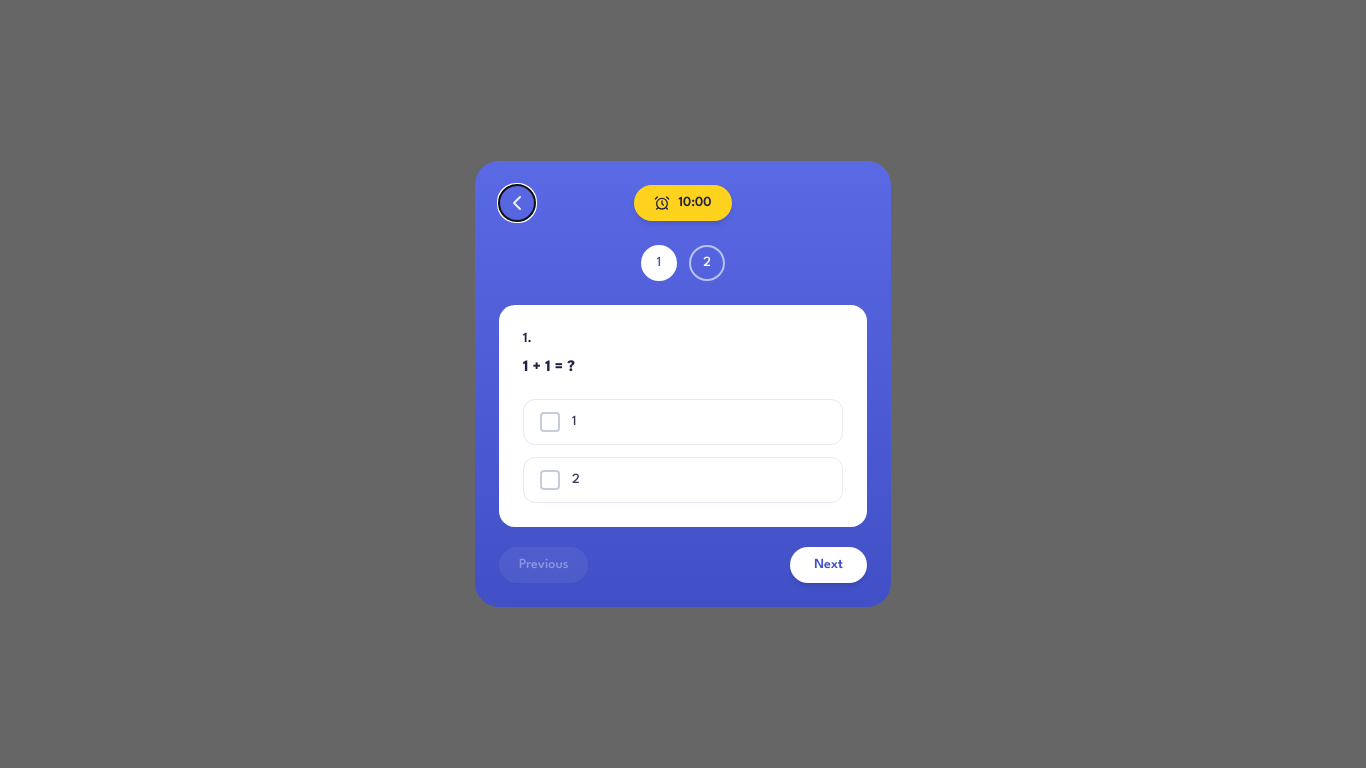
Test: ExamDialog › scores answered questions and shows the result on submit
The image size is (1366, 768).
Check: the text "1 + 1 = ?" is shown, box [523,360,575,375]
// Answer Q1 correctly, advance, answer Q2 correctly, submit.
Click the button "2" below "1 + 1 = ?": [550, 480] box [523,457,843,503]
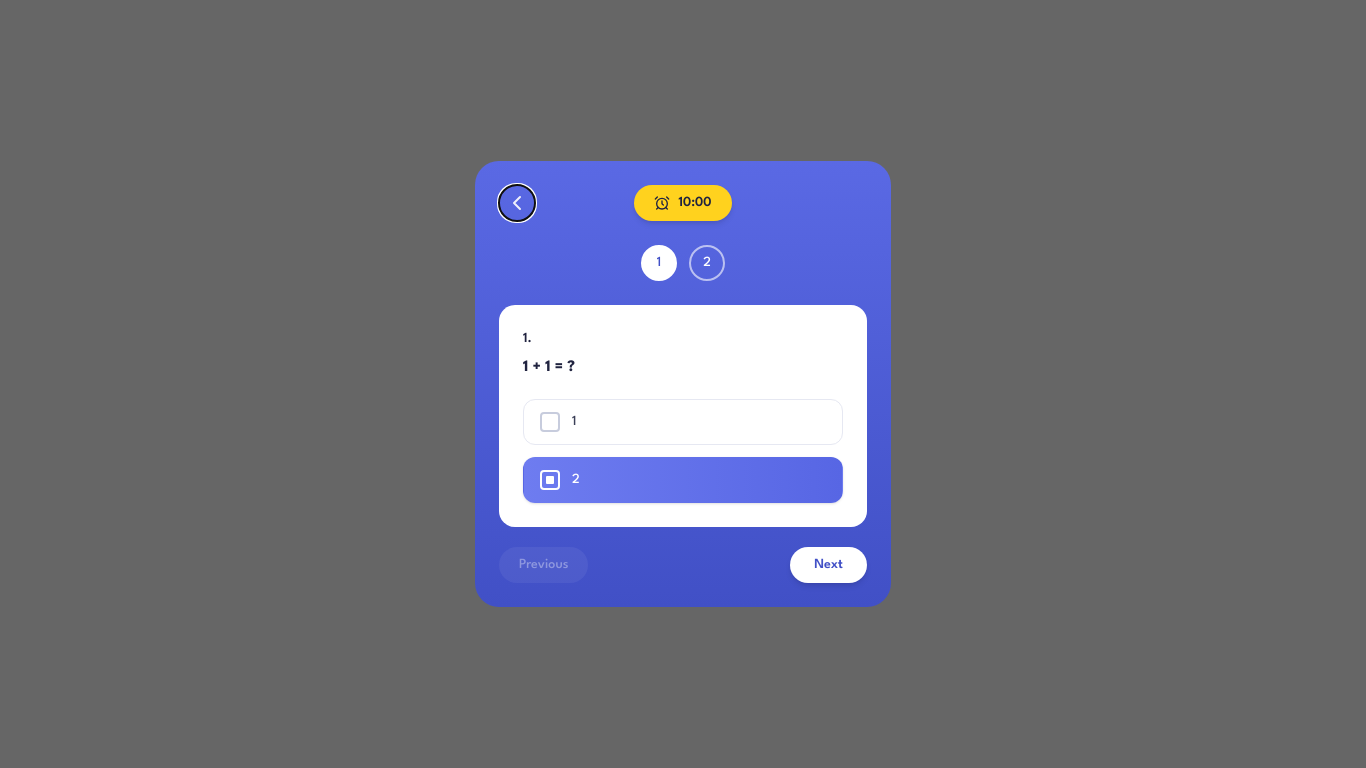
Click the button "Next": [829, 565] box [790,547,867,583]
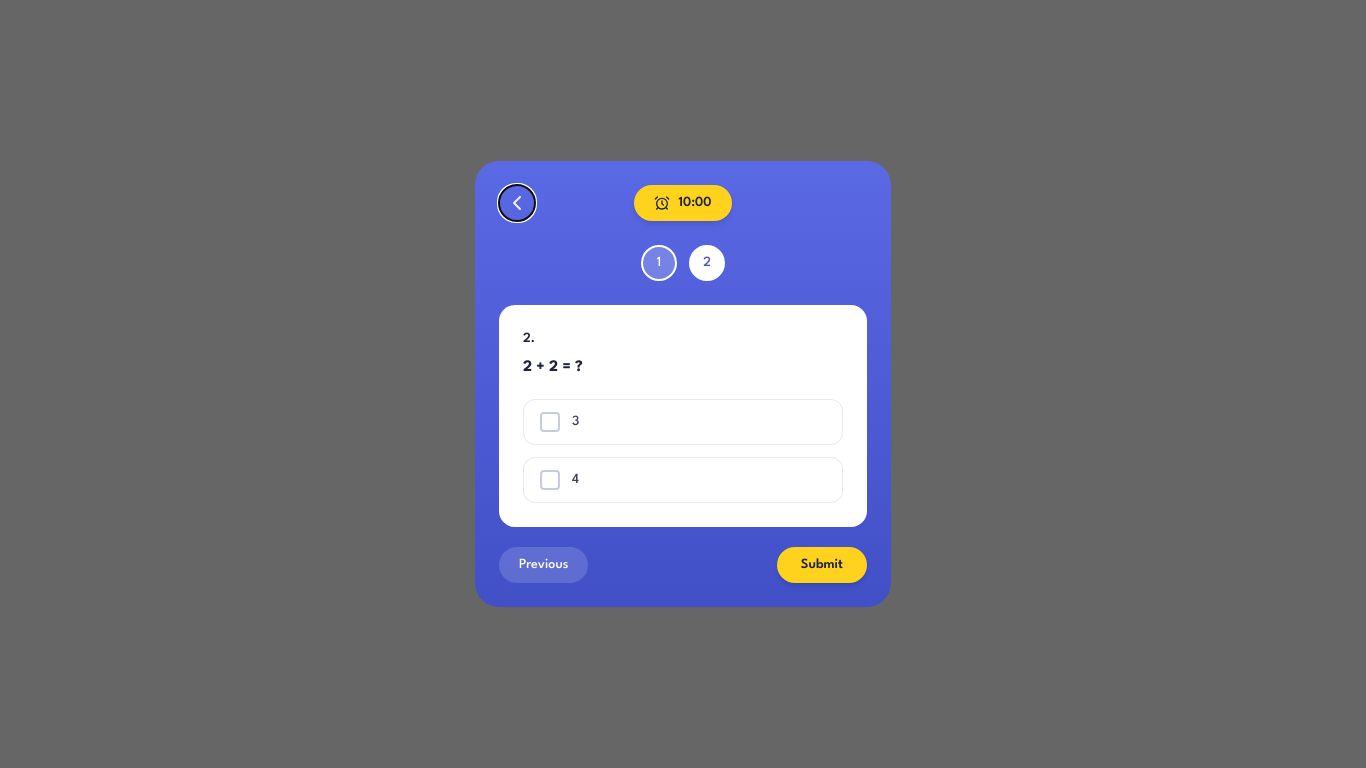
Check: the text "2 + 2 = ?" is shown, box [523,360,583,375]
Click the button "4": [550, 480] box [523,457,843,503]
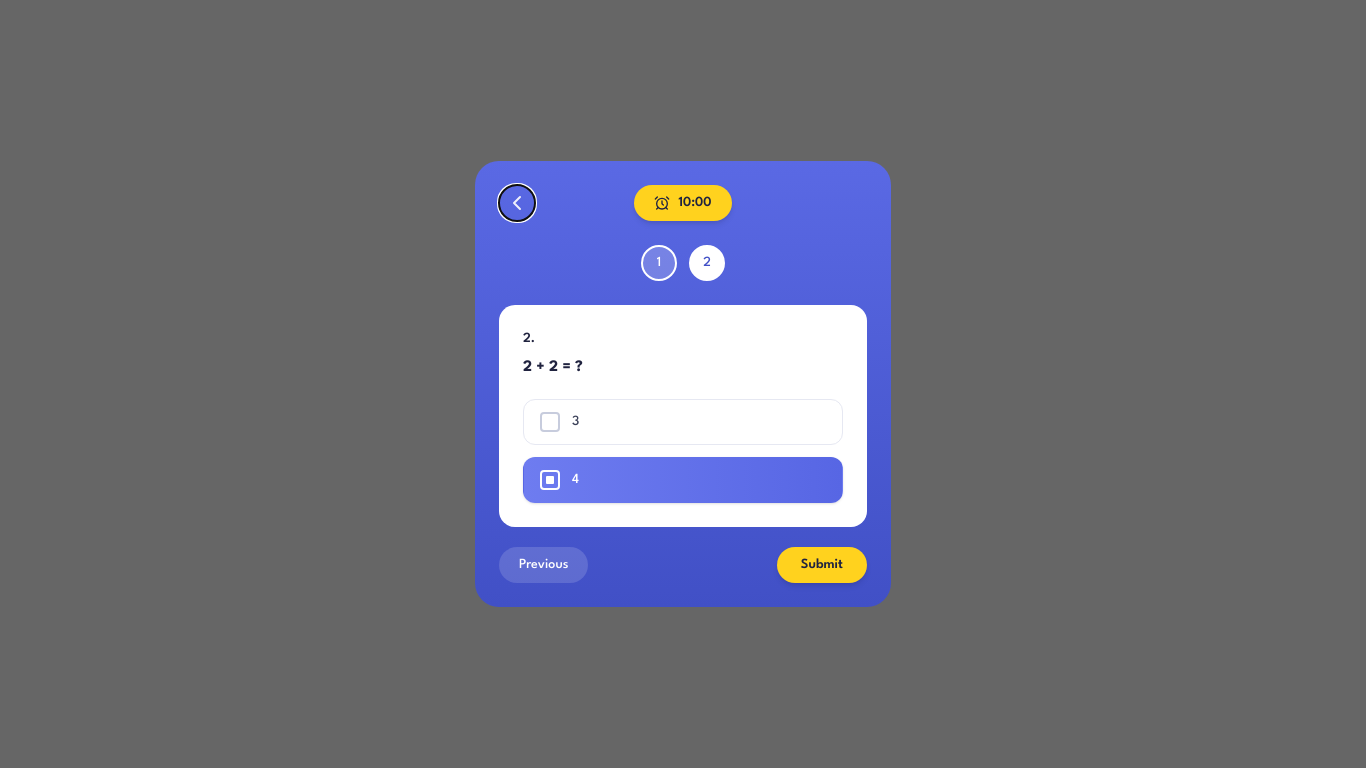
Click the button "Submit": [822, 565] box [777,547,867,583]
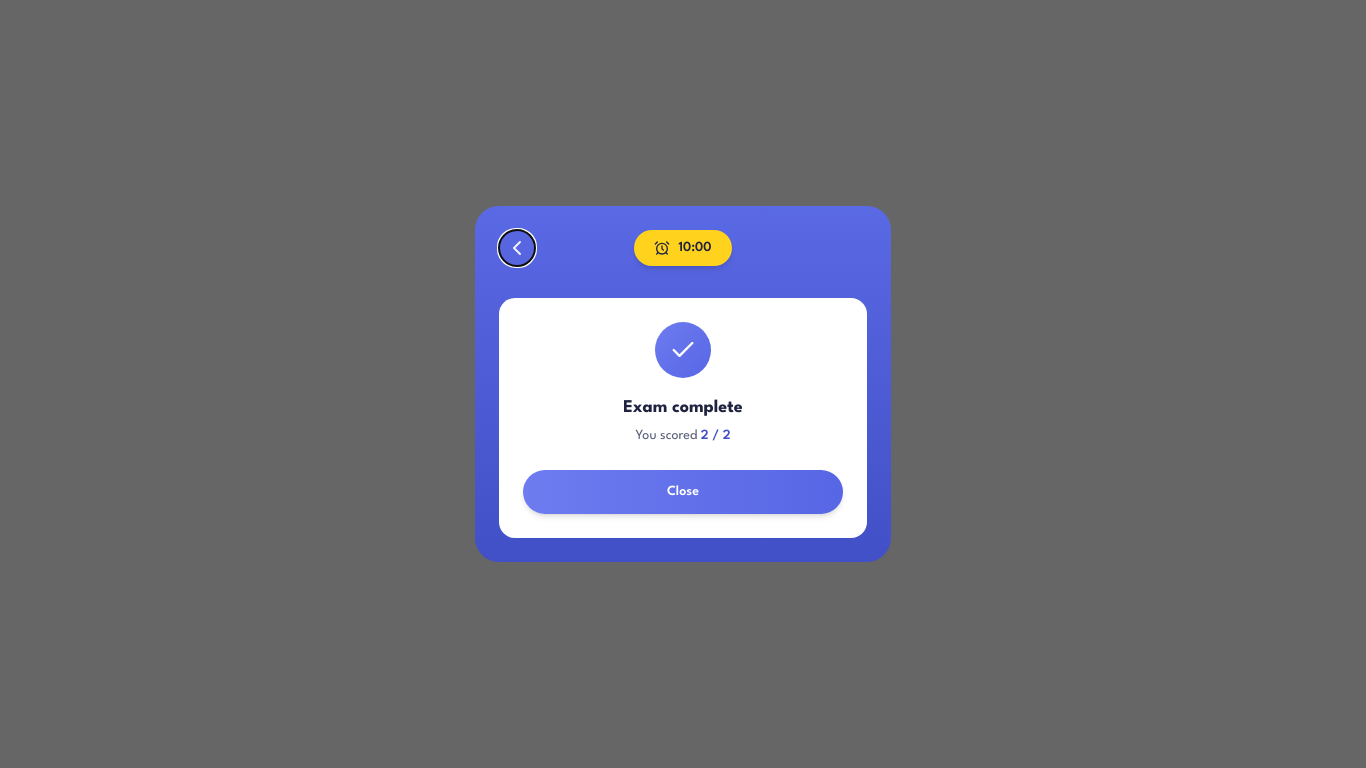
Check: the heading "Exam complete" is shown, box [623,399,743,416]
Check: the text "2 / 2" is shown, box [701,429,731,442]
